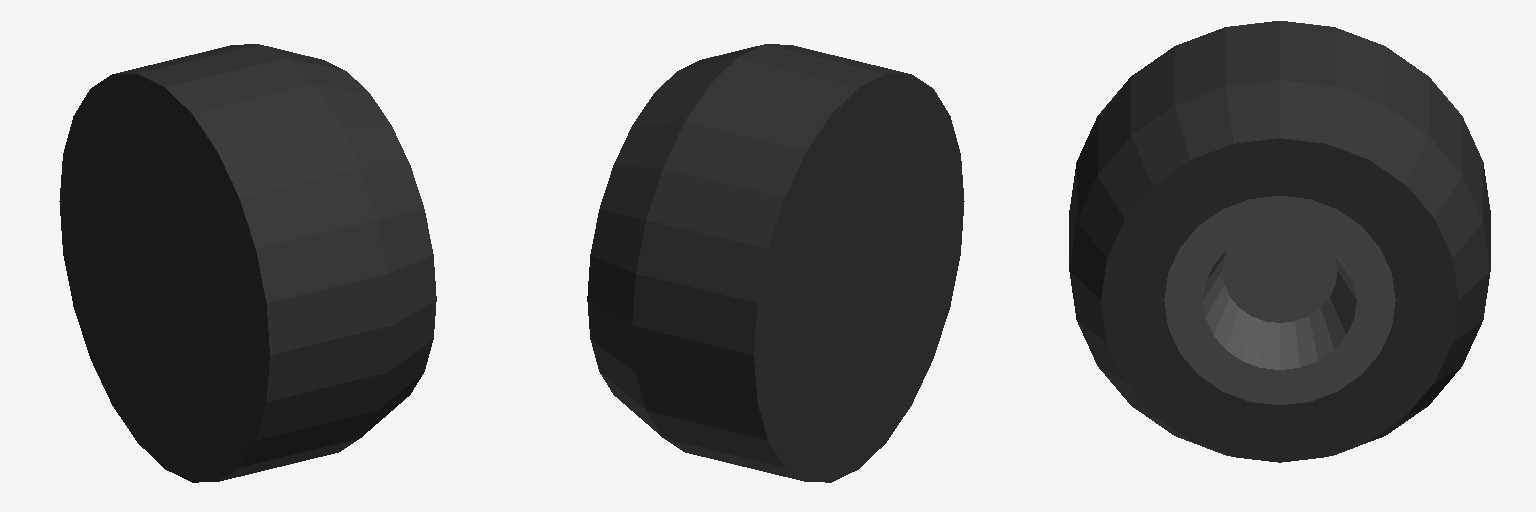
The model's file is wheelTractorDarkFront.obj.
The picture shows the model from 3 angles: view 1: azimuth 30°, elevation 25°; view 2: azimuth 150°, elevation 25°; view 3: azimuth 270°, elevation 25°; orthographic projection.
Parts seen in each view (by area): view 1: wheelTractorDarkFront; view 2: wheelTractorDarkFront; view 3: wheelTractorDarkFront.
Boxes of the visible parts, <box> form: wheelTractorDarkFront: <box>59,44,436,482</box>; wheelTractorDarkFront: <box>587,44,964,482</box>; wheelTractorDarkFront: <box>1069,21,1490,462</box>.
Bounding box in the file's own units: 0.2693 × 0.5386 × 0.5386.